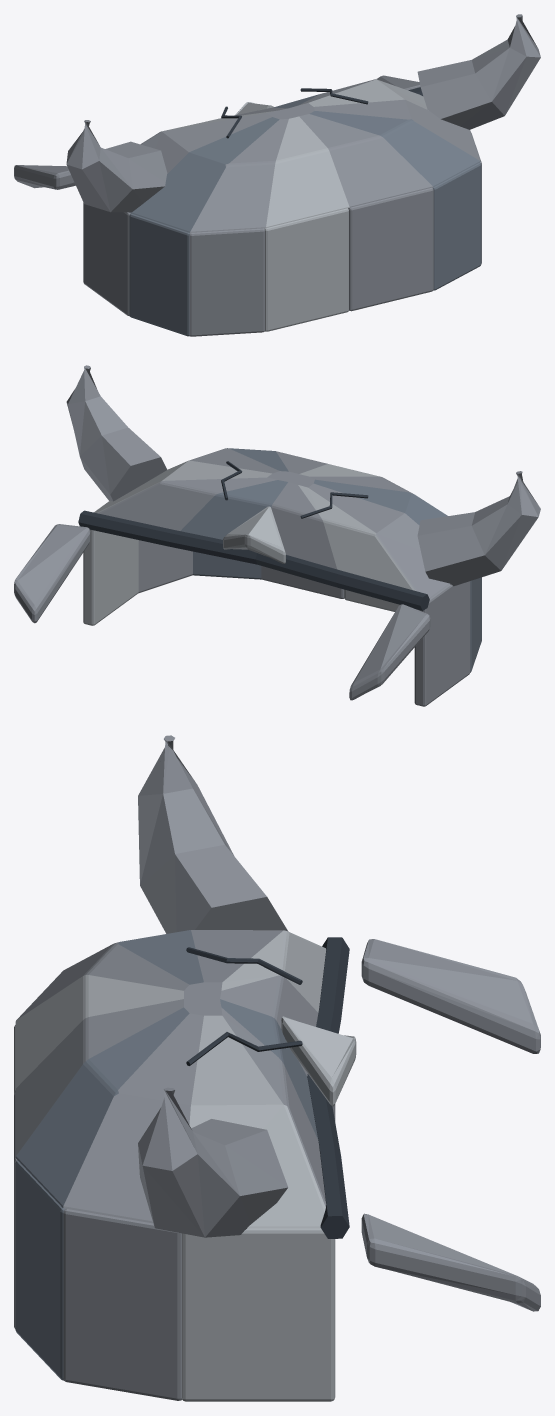
Rendered from stone_helmet.fbx.
3 views of the same model, one above another, from view 1: azimuth 30°, elevation 25°; view 2: azimuth 150°, elevation 25°; view 3: azimuth 270°, elevation 25° (orthographic). The views are drawn at different scales.
Parts seen in each view (by area): view 1: stone_helmet_armor; view 2: stone_helmet_armor; view 3: stone_helmet_armor.
Part boxes in pixels (x1,y1,x2,y2): stone_helmet_armor: (14,14,540,336); stone_helmet_armor: (14,365,540,706); stone_helmet_armor: (14,735,540,1401).
Bounding box in the file's own units: 5.32 × 2.26 × 3.08.
Materials: 1 (1 with a texture image).
